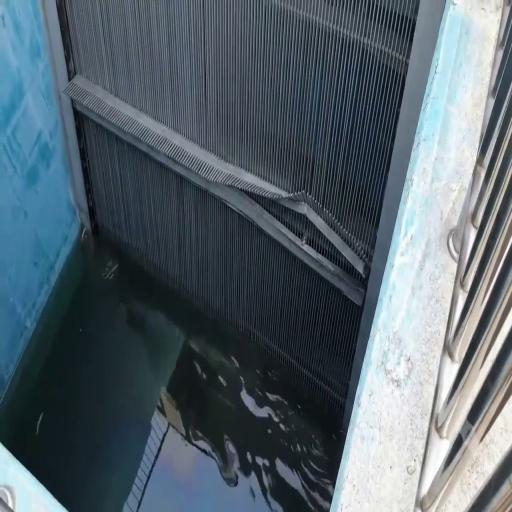rake_broken: (282, 182, 356, 230), (211, 167, 246, 217), (250, 175, 282, 212), (336, 221, 364, 257)
